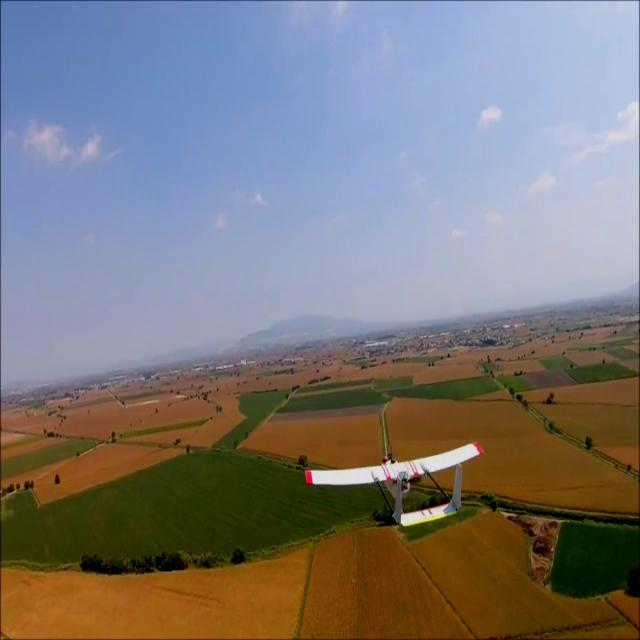iha: (293, 470, 476, 498)
